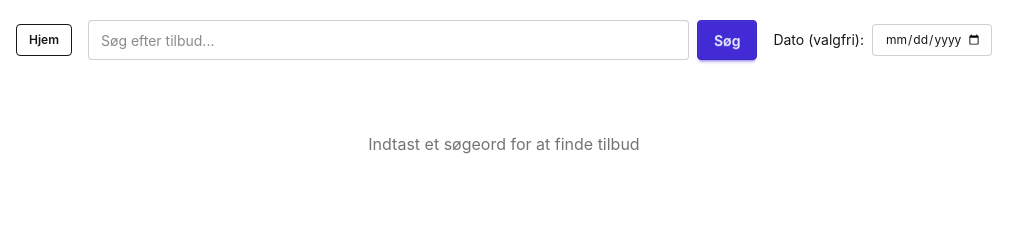
Test: SearchPage › shows formatted price and quantity in table
This screenshot has width=1009, height=237.
Type "test" into the field with placeholder "Søg efter tilbud...". click: (388, 40)
box: [88, 20, 689, 60]
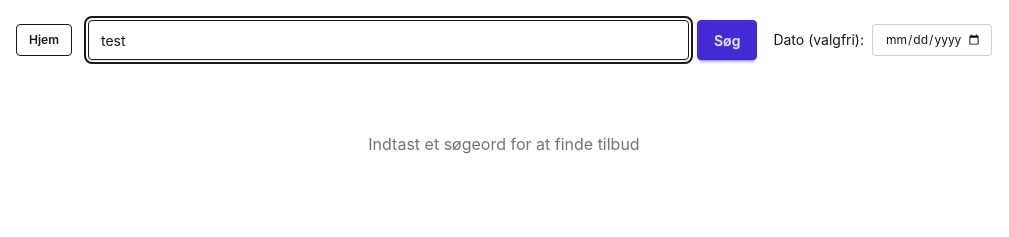
Click the button "Søg". click: (727, 40)
box: [697, 20, 757, 60]
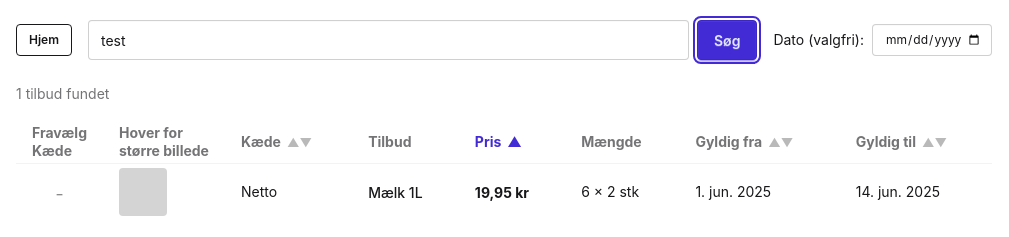
Now the text "19,95 kr" is shown, box [475, 184, 529, 200]
Now the text "6 × 2 stk" is shown, box [565, 164, 679, 220]
